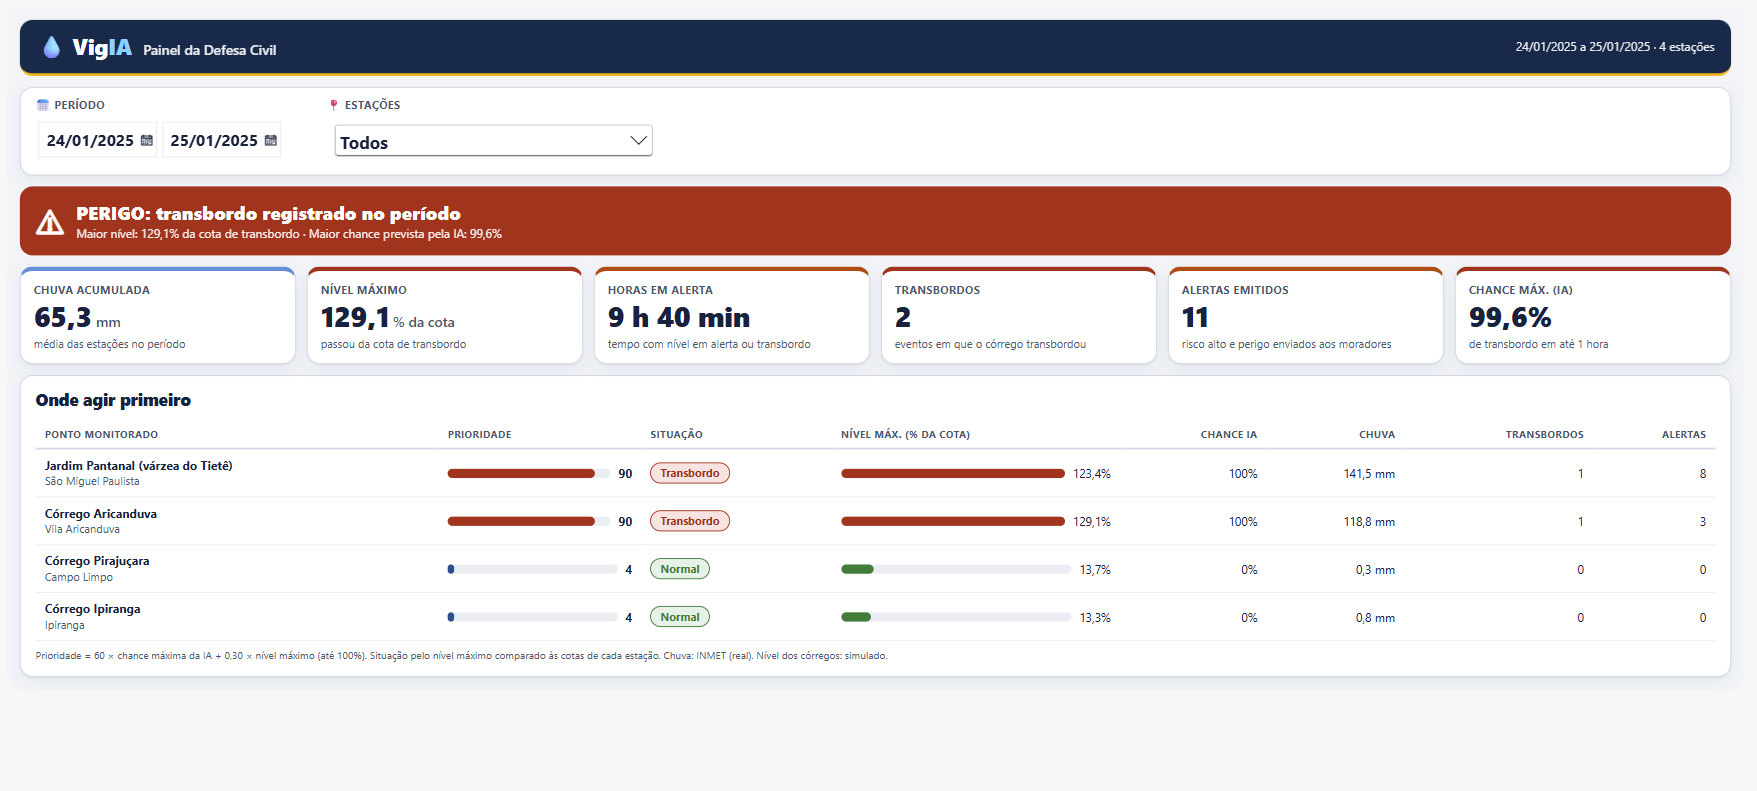

The page's visual inventory and layout, read from the dashboard file:
{"tool":"powerbi","page":{"name":"Página 1","canvas":[1920,1080],"ordinal":0},"visuals":[{"type":"htmlContent443BE3AD55E043BF878BED274D3A6855","fields":{"content":["Medidas.VigIA Painel HTML"]},"box":[0,0,1920,1079.6],"z":0},{"type":"slicer","fields":{"Values":["dim_data.data"]},"box":[42.3,134.2,300.5,52.5],"z":1},{"type":"slicer","fields":{"Values":["dim_estacao.nome"]},"box":[367.7,137.1,356,52.5],"z":2}]}

Visuals, with their boxes on the page's 1920x1080 design canvas (x1, y1, x2, y2). These are canvas units, not pixel positions in the 1757x791 screenshot, which may show the page scaled, cropped or inside an application window:
htmlContent443BE3AD55E043BF878BED274D3A6855 - Medidas.VigIA Painel HTML: pyautogui.locateOnScreen(0, 0, 1920, 1080)
slicer - dim_data.data: pyautogui.locateOnScreen(42, 134, 343, 187)
slicer - dim_estacao.nome: pyautogui.locateOnScreen(368, 137, 724, 190)
